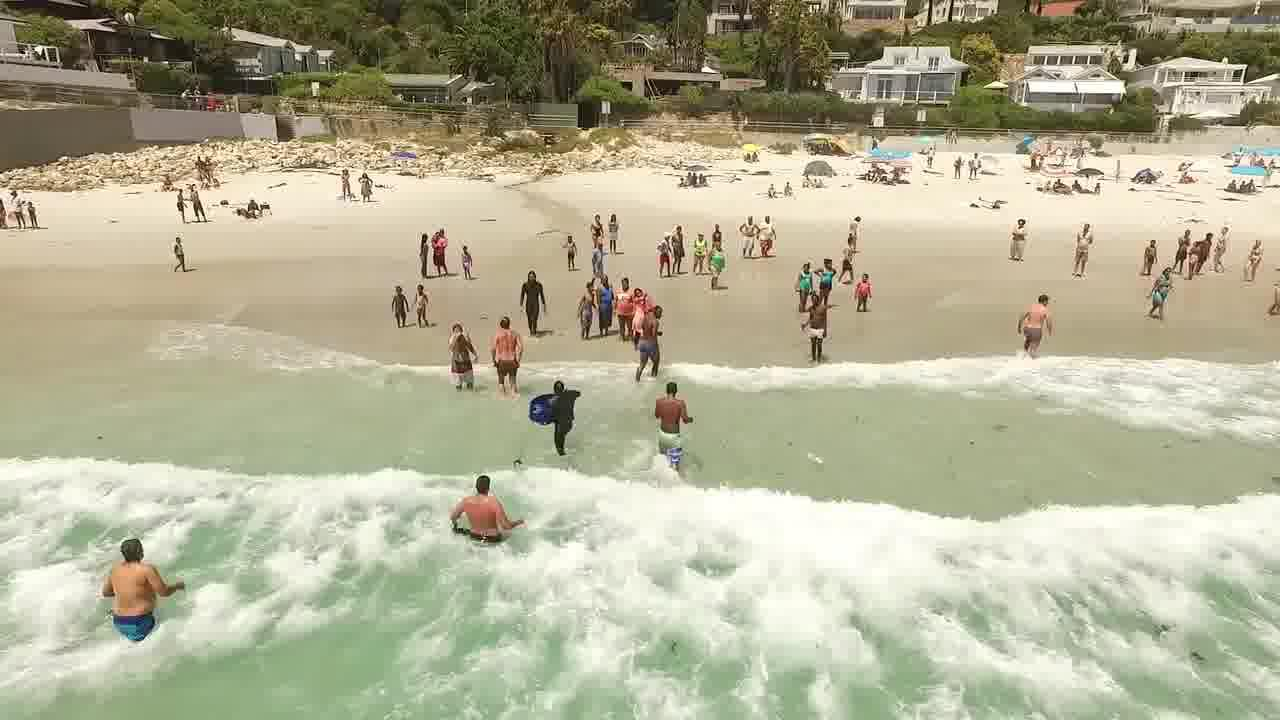swimmer: (105, 515, 165, 620), (643, 379, 696, 454), (539, 372, 584, 448), (482, 308, 527, 384), (457, 466, 503, 531), (1020, 283, 1058, 355), (799, 289, 833, 355), (442, 320, 475, 385), (638, 305, 670, 361), (611, 272, 638, 337), (516, 276, 547, 324), (591, 273, 615, 321), (1151, 269, 1173, 316)
